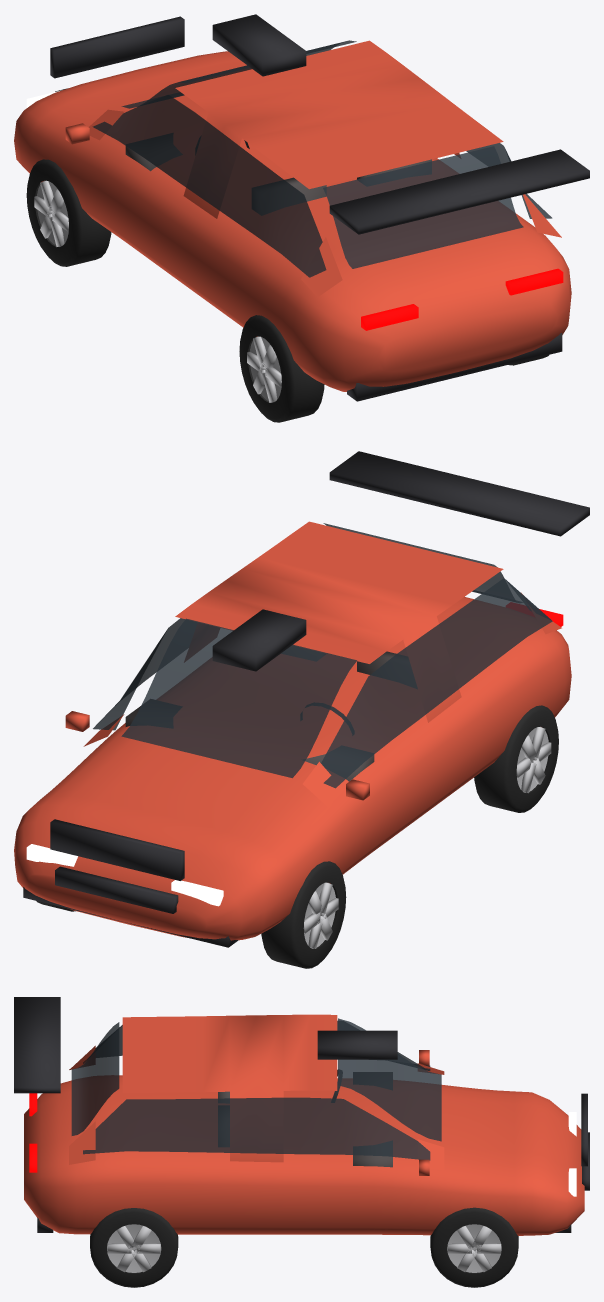
The model's file is car07_dustrunner.glb.
3 renders of one model, top to bottom at view 1: azimuth 30°, elevation 25°; view 2: azimuth 150°, elevation 25°; view 3: azimuth 270°, elevation 25°, orthographic. The views are drawn at different scales.
Visible parts, largest first — view 1: car07_dustrunner_Body, car07_dustrunner_Cabin, car07_dustrunner_Glass, car07_dustrunner_GlassRear, car07_dustrunner_Wheel_RL, car07_dustrunner_Wheel_FL, car07_dustrunner_Interior, car07_dustrunner_Lights_Rear, car07_dustrunner_GlassFront; view 2: car07_dustrunner_Body, car07_dustrunner_Cabin, car07_dustrunner_GlassFront, car07_dustrunner_Glass, car07_dustrunner_Wheel_RL, car07_dustrunner_Wheel_FL, car07_dustrunner_Interior, car07_dustrunner_Lights_Front, car07_dustrunner_GlassRear; view 3: car07_dustrunner_Body, car07_dustrunner_Cabin, car07_dustrunner_Glass, car07_dustrunner_GlassFront, car07_dustrunner_Wheel_RR, car07_dustrunner_Wheel_FR, car07_dustrunner_GlassRear, car07_dustrunner_Interior, car07_dustrunner_Lights_Rear, car07_dustrunner_Lights_Front.
Boxes of the visible parts, x1=… form: car07_dustrunner_Body: x1=14, y1=14, x2=589, y2=401; car07_dustrunner_Cabin: x1=88, y1=40, x2=561, y2=297; car07_dustrunner_Glass: x1=92, y1=94, x2=552, y2=277; car07_dustrunner_GlassRear: x1=323, y1=146, x2=523, y2=268; car07_dustrunner_Wheel_RL: x1=239, y1=315, x2=324, y2=422; car07_dustrunner_Wheel_FL: x1=26, y1=159, x2=111, y2=266; car07_dustrunner_Interior: x1=125, y1=133, x2=431, y2=215; car07_dustrunner_Lights_Rear: x1=361, y1=268, x2=563, y2=330; car07_dustrunner_GlassFront: x1=121, y1=40, x2=356, y2=108; car07_dustrunner_Body: x1=14, y1=451, x2=589, y2=947; car07_dustrunner_Cabin: x1=83, y1=521, x2=561, y2=806; car07_dustrunner_GlassFront: x1=121, y1=618, x2=356, y2=778; car07_dustrunner_Glass: x1=93, y1=578, x2=552, y2=788; car07_dustrunner_Wheel_RL: x1=474, y1=705, x2=558, y2=812; car07_dustrunner_Wheel_FL: x1=261, y1=861, x2=346, y2=968; car07_dustrunner_Interior: x1=125, y1=646, x2=416, y2=781; car07_dustrunner_Lights_Front: x1=26, y1=844, x2=223, y2=906; car07_dustrunner_GlassRear: x1=323, y1=523, x2=518, y2=602; car07_dustrunner_Body: x1=14, y1=997, x2=589, y2=1235; car07_dustrunner_Cabin: x1=69, y1=1014, x2=444, y2=1170; car07_dustrunner_Glass: x1=83, y1=1020, x2=430, y2=1160; car07_dustrunner_GlassFront: x1=338, y1=1018, x2=441, y2=1141; car07_dustrunner_Wheel_RR: x1=90, y1=1208, x2=178, y2=1287; car07_dustrunner_Wheel_FR: x1=430, y1=1207, x2=518, y2=1287; car07_dustrunner_GlassRear: x1=71, y1=1022, x2=119, y2=1135; car07_dustrunner_Interior: x1=218, y1=1072, x2=392, y2=1167; car07_dustrunner_Lights_Rear: x1=29, y1=1093, x2=37, y2=1172; car07_dustrunner_Lights_Front: x1=568, y1=1112, x2=576, y2=1196.
Size of what is drawn, in the model's own units: 2.06 by 1.63 by 4.32.
